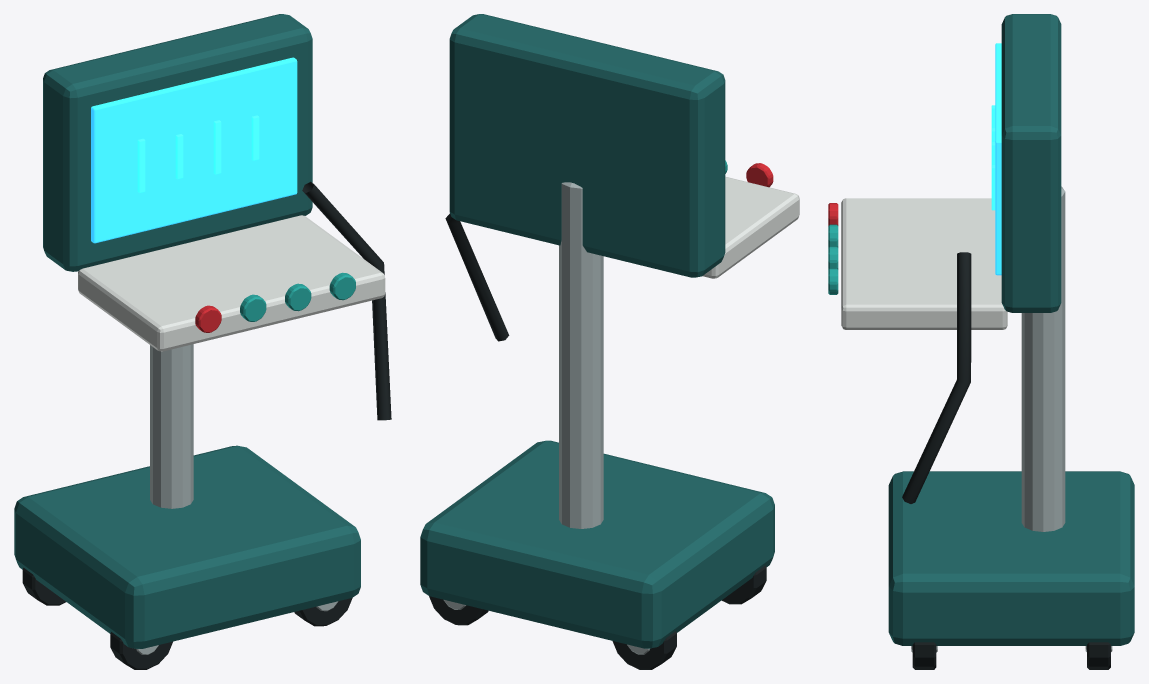
File: MH07_Vital_Signs_Monitor_Cart.glb
3 renders of one model, left to right at view 1: azimuth 30°, elevation 25°; view 2: azimuth 150°, elevation 25°; view 3: azimuth 270°, elevation 25°, orthographic. The views are drawn at different scales.
Parts seen in each view (by area): view 1: Cart_Base, Monitor_Display, Monitor_Housing, Control_Shelf, Support_Column, Sensor_Cable, Monitor_Wheel_01_Tire, Monitor_Wheel_03_Tire, Monitor_Wheel_02_Tire, Button_01, Button_02, Button_03 (+1 smaller); view 2: Monitor_Housing, Cart_Base, Support_Column, Control_Shelf, Sensor_Cable, Monitor_Wheel_02_Tire, Monitor_Wheel_04_Tire, Monitor_Wheel_01_Tire; view 3: Cart_Base, Control_Shelf, Monitor_Housing, Support_Column, Sensor_Cable, Monitor_Display, Monitor_Wheel_03_Tire, Monitor_Wheel_04_Tire.
Boxes of the visible parts, x1,y1,x2,y2 form: Cart_Base: [14, 445, 360, 648]; Monitor_Display: [91, 57, 297, 243]; Monitor_Housing: [43, 14, 312, 271]; Control_Shelf: [78, 215, 385, 351]; Support_Column: [150, 344, 193, 508]; Sensor_Cable: [302, 181, 391, 420]; Monitor_Wheel_01_Tire: [110, 632, 172, 669]; Monitor_Wheel_03_Tire: [294, 598, 352, 626]; Monitor_Wheel_02_Tire: [22, 567, 65, 605]; Button_01: [195, 305, 221, 332]; Button_02: [240, 294, 266, 321]; Button_03: [285, 283, 311, 311]; Monitor_Housing: [449, 14, 725, 277]; Cart_Base: [420, 440, 774, 648]; Support_Column: [559, 182, 603, 528]; Control_Shelf: [702, 176, 799, 278]; Sensor_Cable: [445, 213, 509, 341]; Monitor_Wheel_02_Tire: [612, 631, 676, 669]; Monitor_Wheel_04_Tire: [429, 596, 488, 625]; Monitor_Wheel_01_Tire: [722, 565, 766, 604]; Cart_Base: [888, 471, 1134, 645]; Control_Shelf: [841, 198, 1007, 329]; Monitor_Housing: [1001, 14, 1061, 312]; Support_Column: [1021, 186, 1065, 531]; Sensor_Cable: [902, 252, 971, 503]; Monitor_Display: [995, 43, 1001, 275]; Monitor_Wheel_03_Tire: [912, 642, 936, 669]; Monitor_Wheel_04_Tire: [1087, 642, 1110, 669].
Size of the model in its own units: 0.8558 by 1.54 by 0.7725.
